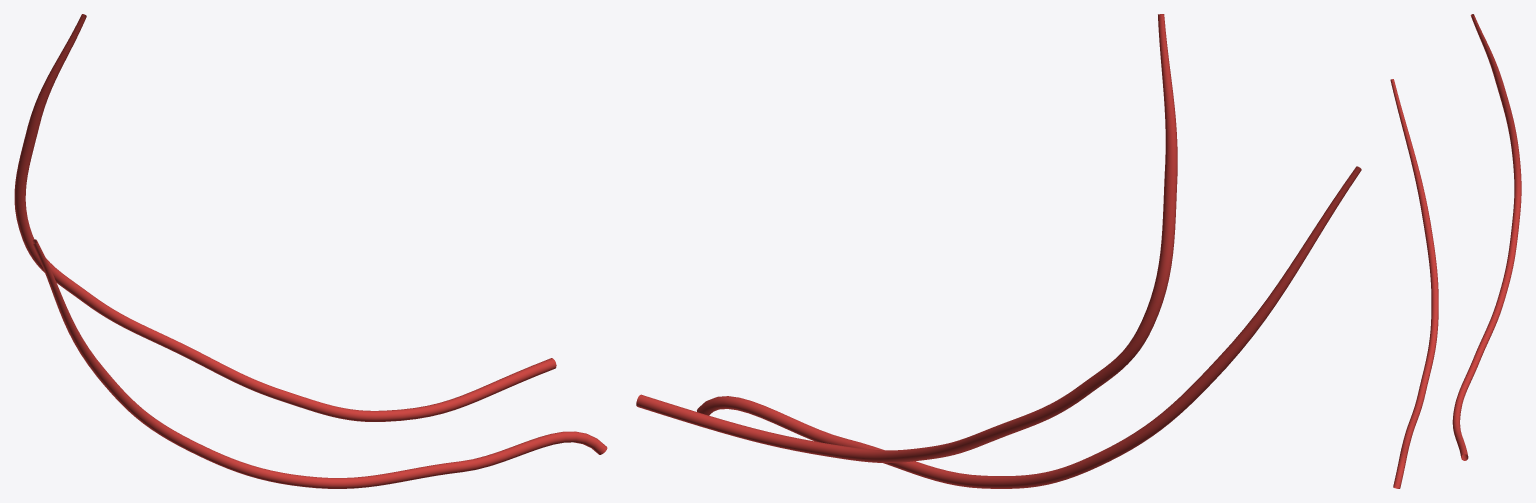
The picture shows the model from 3 angles, left to right: view 1: azimuth 30°, elevation 25°; view 2: azimuth 150°, elevation 25°; view 3: azimuth 270°, elevation 25°; orthographic projection. The views are drawn at different scales.
Visible parts, largest first — view 1: 右侧基底动脉短旋支; view 2: 右侧基底动脉短旋支; view 3: 右侧基底动脉短旋支.
Part boxes in pixels (x1,y1,x2,y2): 右侧基底动脉短旋支: (14,14,607,488); 右侧基底动脉短旋支: (636,14,1361,488); 右侧基底动脉短旋支: (1390,14,1521,488).
Bounding box in the file's own units: 0.0347 × 0.0292 × 0.0105.
